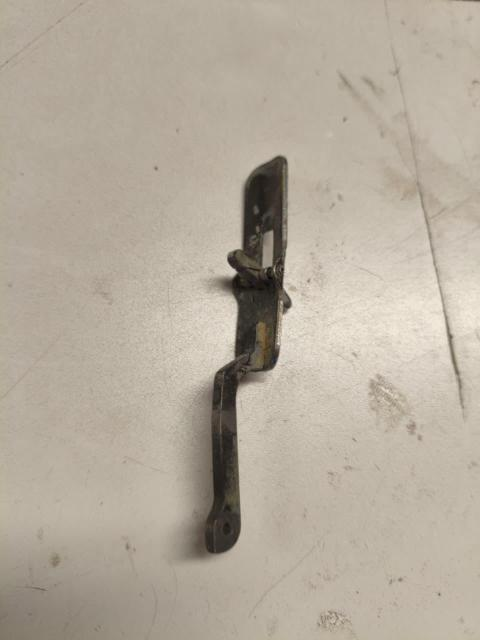Metal: (158, 147, 327, 557)
